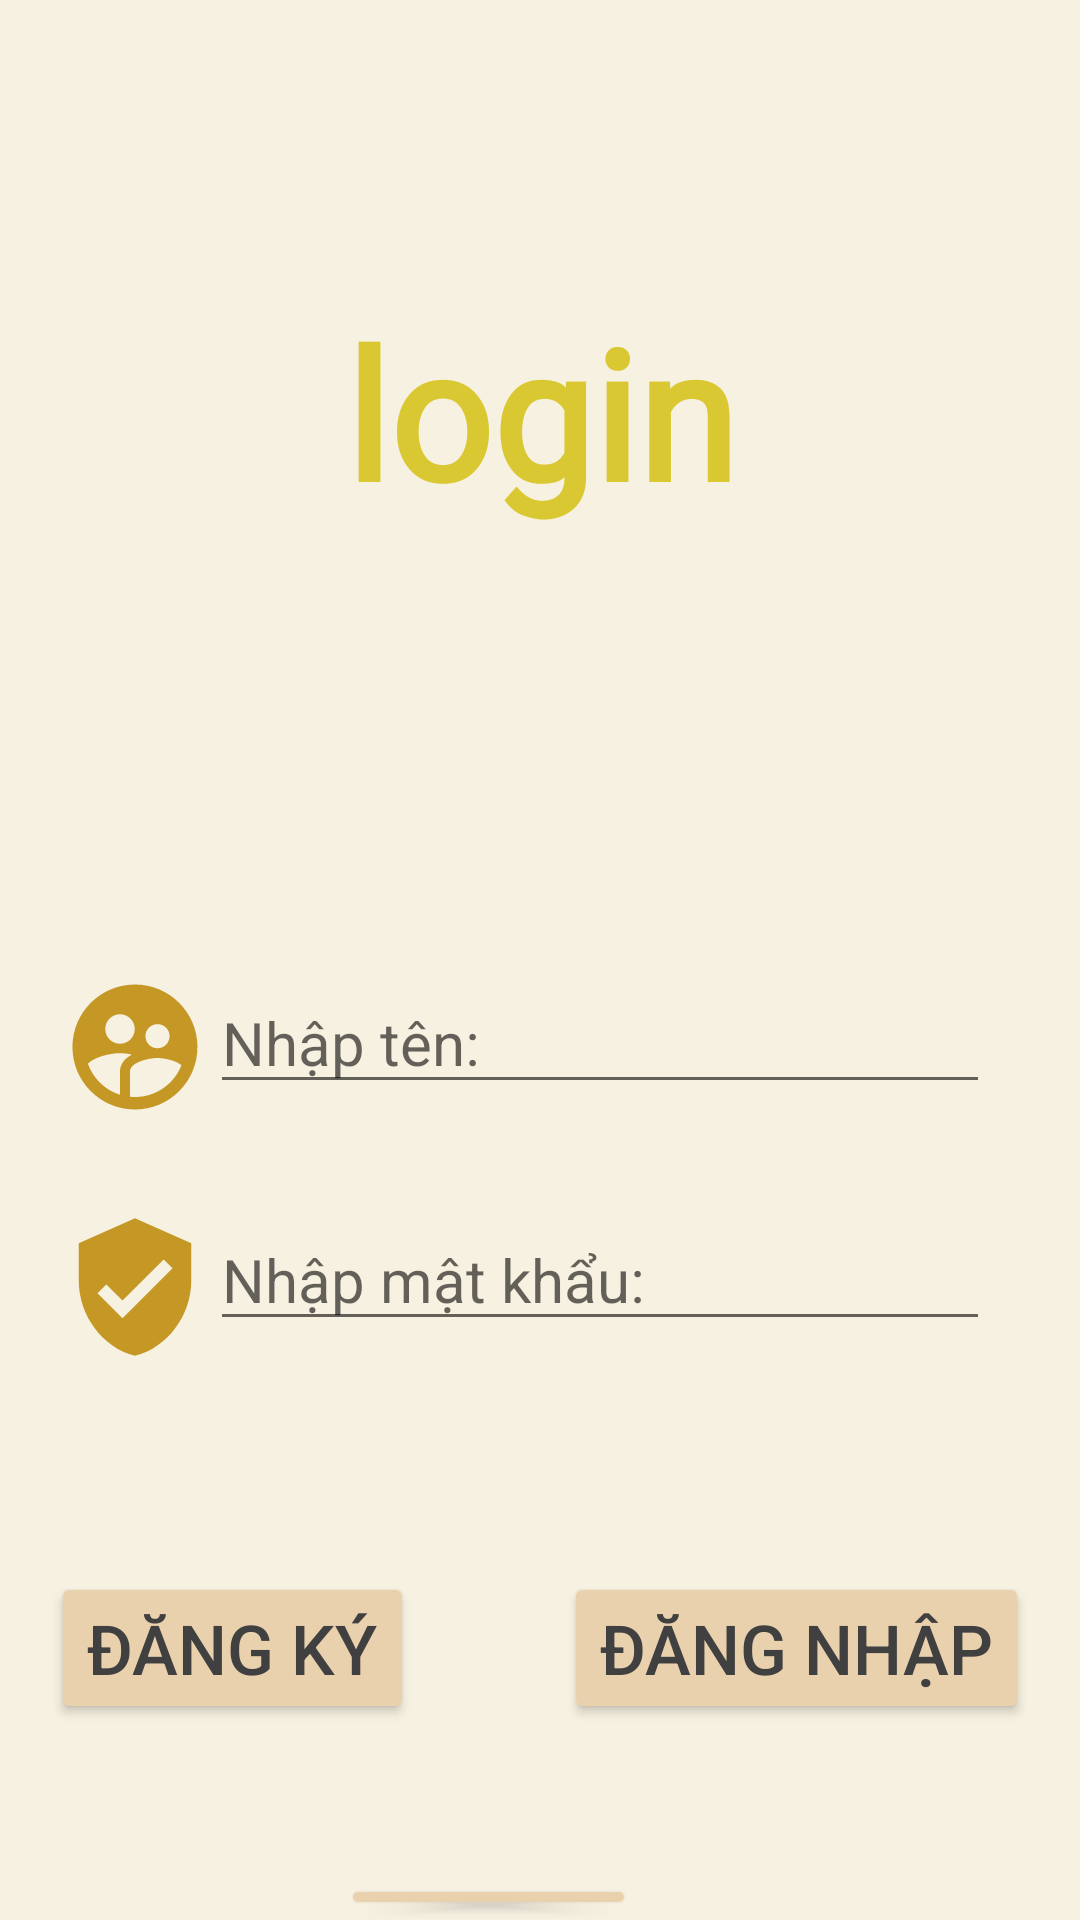

Screen size 1080px x 1920px. Icon name, then its center in pixels as [x,y]:
nhapten: [135,1047]
pass: [135,1287]
